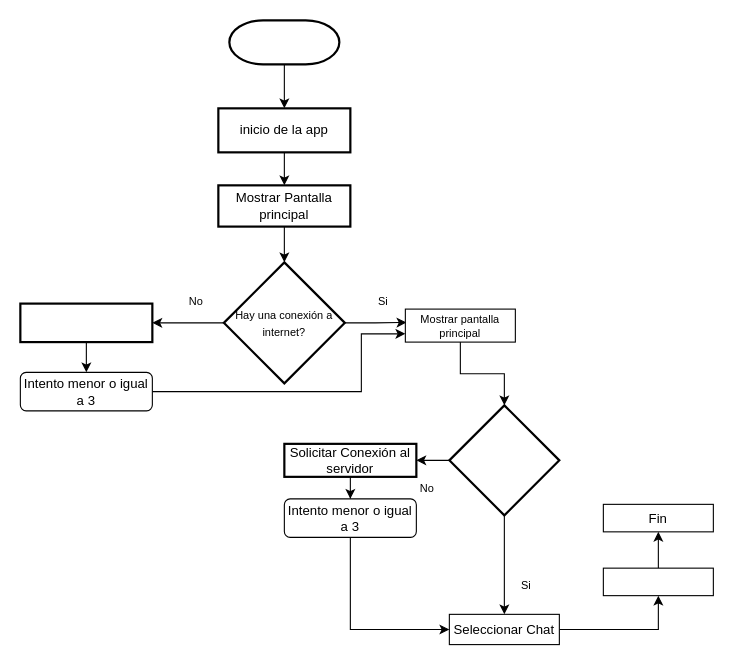
Image size: 733x663. Some labels were removed from this diagram. Each missing label, with the centre of its shape:
"Enviar mensaje" goes at (657,581).
"Hay conexión al servidor?" goes at (504,460).
"Inicio" goes at (284,42).
"Pedir al usuario una conexión al internet" goes at (86,322).
